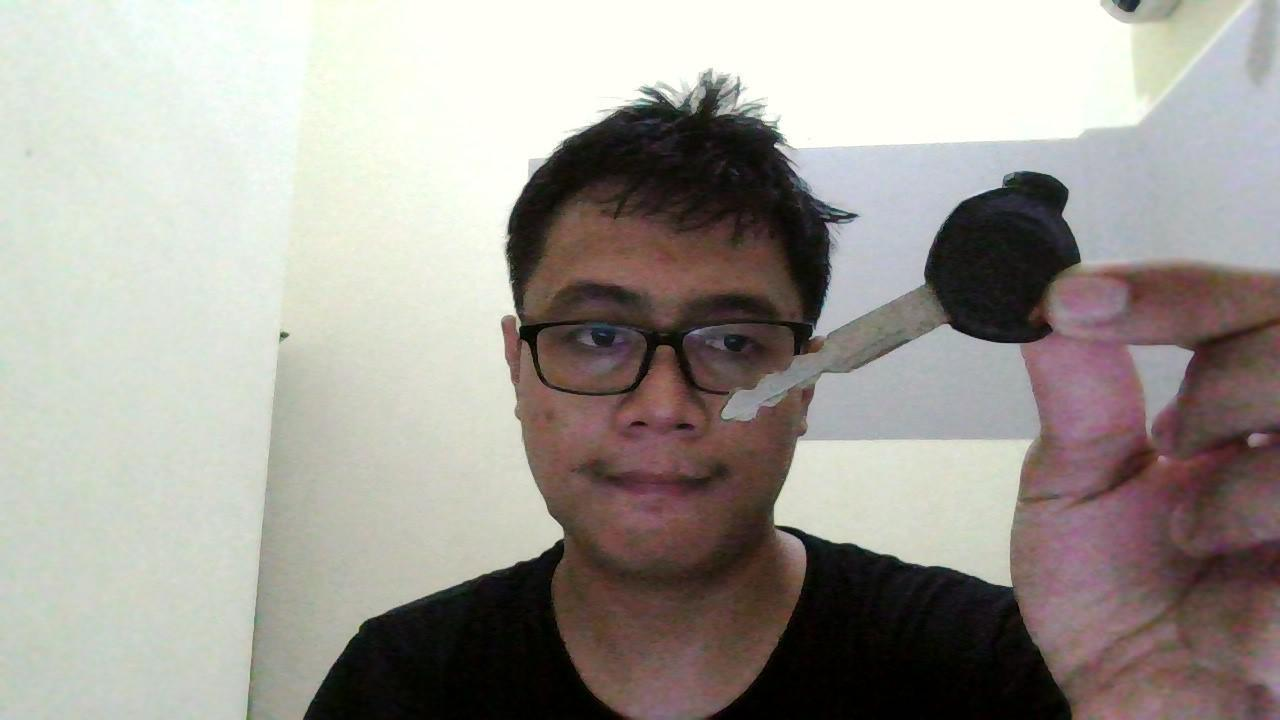keys: (709, 160, 1097, 441)
